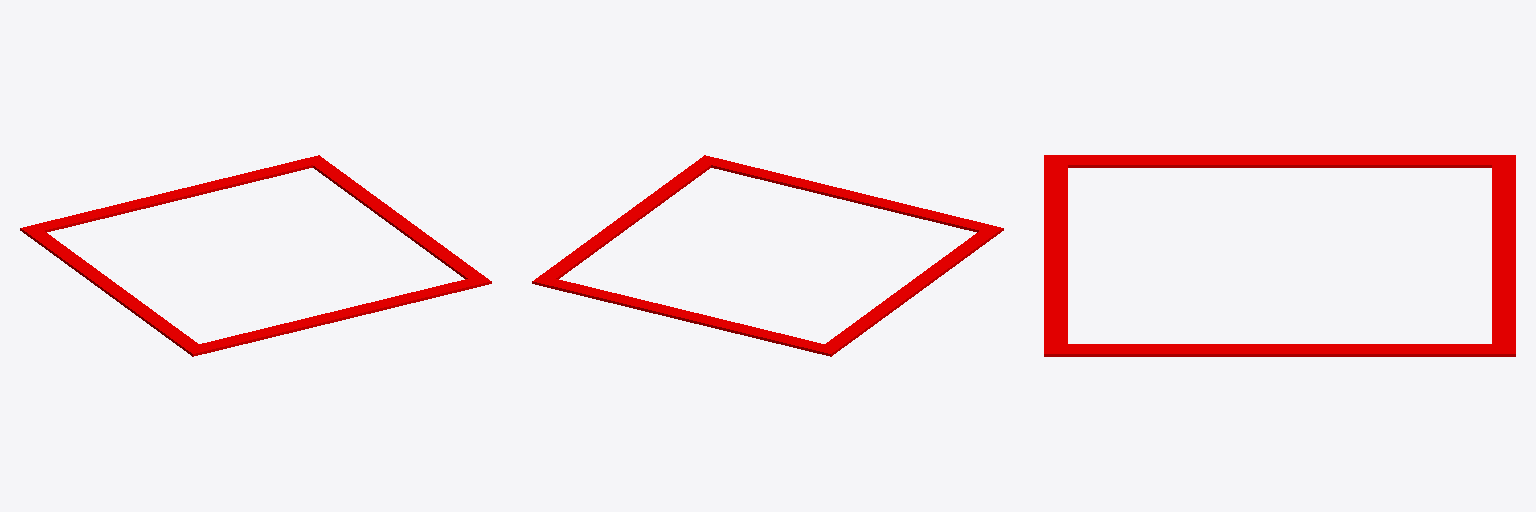
The robot description file, URDF, robot "zone2.urdf":
<?xml version="1.0" ?>
<robot name="zone2.urdf">
  <link name="baseLink">
    <contact>
      <lateral_friction value="1.0"/>
      <inertia_scaling value="3.0"/>
    </contact>
    <inertial>
      <origin rpy="0 0 0" xyz="-0.01 0 0.02"/>
       <mass value=".1"/>
       <inertia ixx="1" ixy="0" ixz="0" iyy="1" iyz="0" izz="1"/>
    </inertial>
    <visual>
      <origin rpy="0 0 0" xyz="0 0 0"/>
      <geometry>
        <mesh filename="zone.obj" scale="0.006 0.006 0.00005"/>
      </geometry>
      <material name="red">
        <color rgba="1 0 0 1"/>
      </material>
    </visual>
  </link>
</robot>

--- Render facts (derived) ---
Views: 3 orthographic renders of the robot side by side, from view 1: azimuth 30°, elevation 25°; view 2: azimuth 150°, elevation 25°; view 3: azimuth 270°, elevation 25°.
Model zone2.urdf with 1 links and 0 joints (none), rooted at baseLink, posed every joint at zero.
Visible links, largest first — view 1: baseLink; view 2: baseLink; view 3: baseLink.
Boxes of the visible links, bbox=[...] form: baseLink: bbox=[20, 155, 491, 356]; baseLink: bbox=[532, 155, 1003, 356]; baseLink: bbox=[1044, 155, 1515, 356].
Bounding box of the posed robot: 0.12 × 0.12 × 0.001 m (x, y, z).
Meshes: 1 distinct files referenced, 1 mesh visuals loaded (1 OBJ).